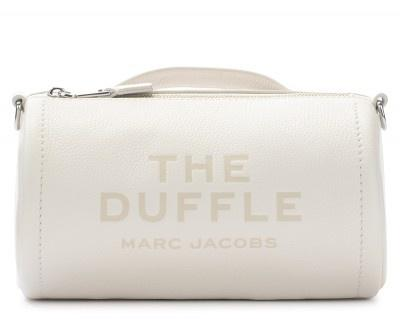MARC-JACOBS: (120, 238, 278, 250)
